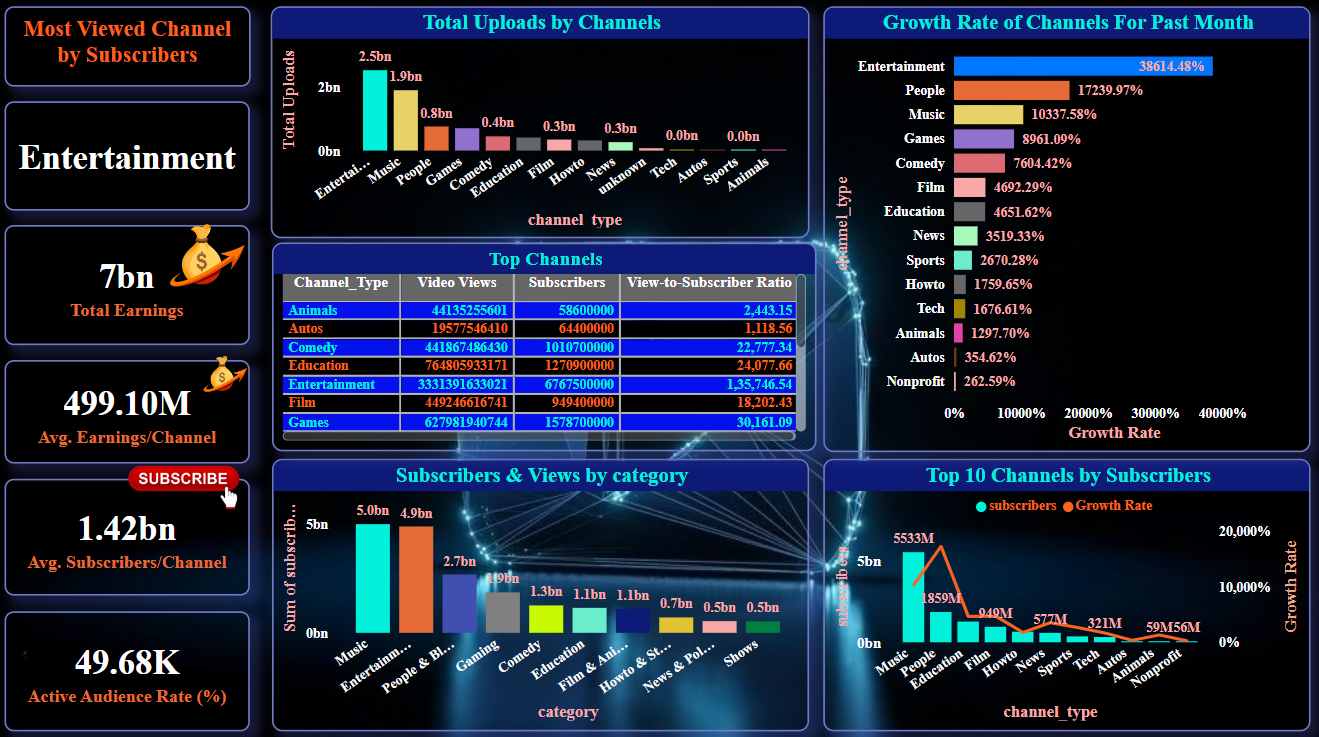

The dashboard page shown, as its layout file describes it:
{"tool":"powerbi","page":{"name":"Channel Info.","canvas":[1280,720],"ordinal":1},"visuals":[{"type":"clusteredColumnChart","title":"Subscribers & Views by category","fields":{"Category":["Global YouTube Statistics.category"],"Y":["Sum(Global YouTube Statistics.subscribers)"]},"box":[265.4,447.6,524.8,263],"z":0},{"type":"clusteredColumnChart","title":"Total Uploads by Channels","fields":{"Y":["Sum(Global YouTube Statistics.Total Upload)"],"Category":["Global YouTube Statistics.channel_type"]},"box":[264.3,11.4,520,224.3],"z":1000},{"type":"lineClusteredColumnComboChart","title":"Top 10 Channels by Subscribers","fields":{"Category":["Global YouTube Statistics.channel_type"],"Y":["Sum(Global YouTube Statistics.subscribers)"],"Y2":["Sum(Global YouTube Statistics.Growth Rate)"]},"box":[797.1,447.1,470,262.9],"z":2000},{"type":"clusteredBarChart","title":"Growth Rate of Channels For Past Month","fields":{"Category":["Global YouTube Statistics.channel_type"],"Y":["Sum(Global YouTube Statistics.Growth Rate)"]},"box":[797.1,11.4,470,430],"z":3000},{"type":"card","fields":{"Values":["Measure Table.Avg. Subscribers/Channel"]},"box":[7.2,466.9,252.1,113.4],"z":4000},{"type":"card","fields":{"Values":["Measure Table.Avg. Earnings/Channel"]},"box":[7.2,352.3,252.1,100.1],"z":5000},{"type":"image","box":[180.7,324,78,88.7],"z":6000},{"type":"image","box":[142,452,116.7,82],"z":7000},{"type":"tableEx","title":"Top Channels","fields":{"Values":["Global YouTube Statistics.channel_type","Sum(Global YouTube Statistics.video views)","Sum(Global YouTube Statistics.subscribers)","Sum(Global YouTube Statistics.View-to-Subscriber Ratio)"]},"box":[265.4,239.2,525.4,201.5],"z":8000},{"type":"textbox","box":[7.2,10.9,252.1,77.2],"z":9000},{"type":"card","fields":{"Values":["Min(Global YouTube Statistics.channel_type)"]},"box":[7.2,102.5,252.1,106.2],"z":10000},{"type":"card","fields":{"Values":["Measure Table.Active Audience Rate (%)"]},"box":[7.2,594.8,252.1,115.8],"z":11000},{"type":"card","fields":{"Values":["Measure Table.Total Earnings"]},"box":[7.2,222,252.1,117],"z":12000},{"type":"image","box":[138.7,188,126.7,136],"z":13000}]}

Visuals, with their boxes in screenshot pixels (x1, y1, x2, y2), scaled from the page's 1280x720 canvas onto the 1319x737 screenshot:
"Subscribers & Views by category" clusteredColumnChart: [left=273, top=458, right=814, bottom=727]
"Total Uploads by Channels" clusteredColumnChart: [left=272, top=12, right=808, bottom=241]
"Top 10 Channels by Subscribers" lineClusteredColumnComboChart: [left=821, top=458, right=1306, bottom=727]
"Growth Rate of Channels For Past Month" clusteredBarChart: [left=821, top=12, right=1306, bottom=452]
card - Measure Table.Avg. Subscribers/Channel: [left=7, top=478, right=267, bottom=594]
card - Measure Table.Avg. Earnings/Channel: [left=7, top=361, right=267, bottom=463]
image: [left=186, top=332, right=267, bottom=422]
image: [left=146, top=463, right=267, bottom=547]
"Top Channels" tableEx: [left=273, top=245, right=815, bottom=451]
textbox: [left=7, top=11, right=267, bottom=90]
card - Min(Global YouTube Statistics.channel_type): [left=7, top=105, right=267, bottom=214]
card - Measure Table.Active Audience Rate (%): [left=7, top=609, right=267, bottom=727]
card - Measure Table.Total Earnings: [left=7, top=227, right=267, bottom=347]
image: [left=143, top=192, right=273, bottom=332]
